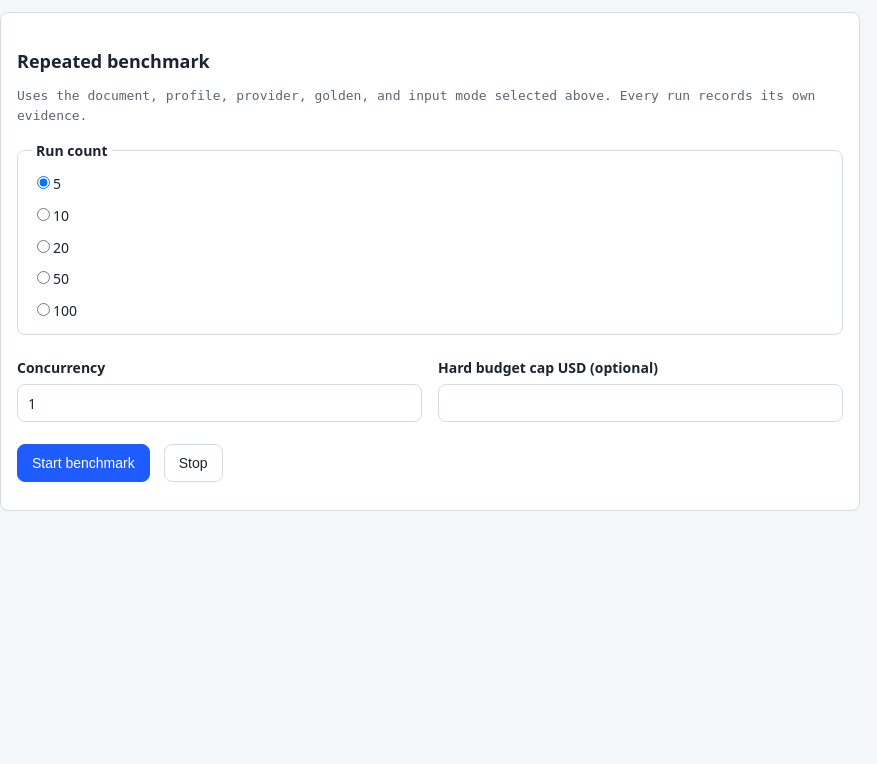
Test: RepeatedBenchmarkSection › shows the budget-cap stop reason once the run settles
Step 1. Click the button "Start benchmark" → (83, 463), box [17,444,150,482]
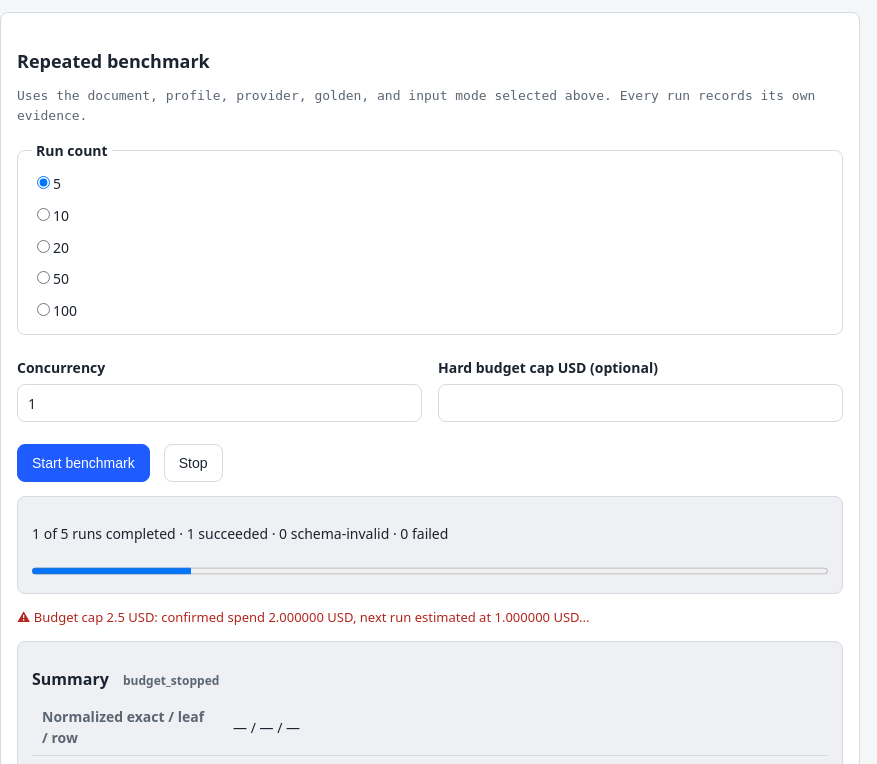
Expected: the text "Budget cap 2.5 USD" is shown, [34,608,590,626]
